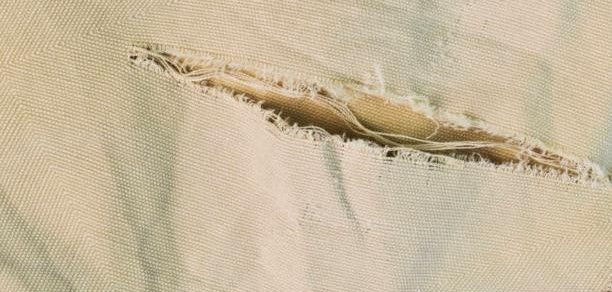hole: (120, 31, 612, 206)
